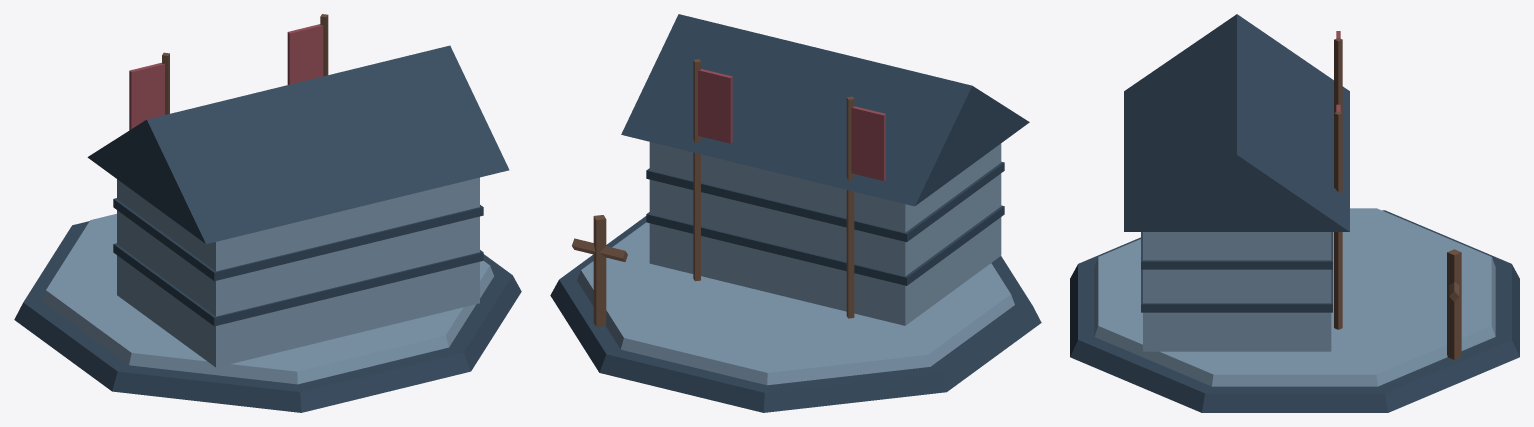
Rendered from Barracks_1.fbx.
3 renders of one model, left to right at view 1: azimuth 30°, elevation 25°; view 2: azimuth 150°, elevation 25°; view 3: azimuth 270°, elevation 25°, orthographic. The views are drawn at different scales.
Visible parts, largest first — view 1: Barracks_1; view 2: Barracks_1; view 3: Barracks_1.
Part boxes in pixels (x1,y1,x2,y2): Barracks_1: (14,14,521,412); Barracks_1: (550,14,1041,412); Barracks_1: (1070,14,1519,412).
Bounding box in the file's own units: 2.7 × 1.6 × 2.7.
